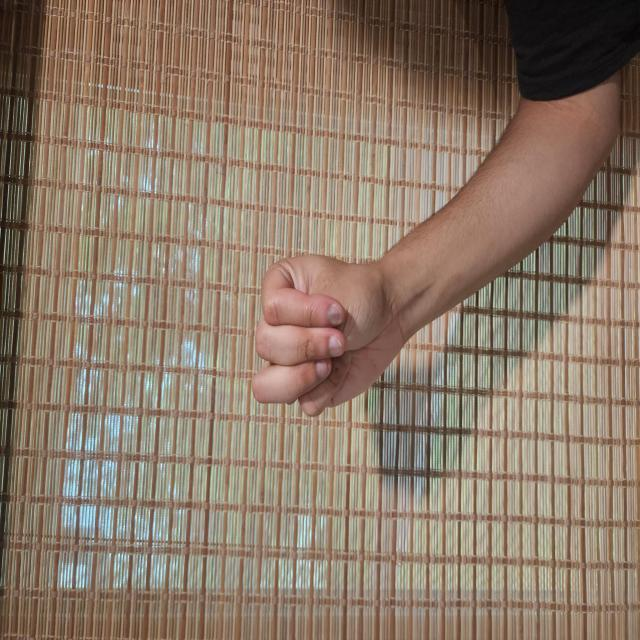M: (164, 332, 294, 546)
